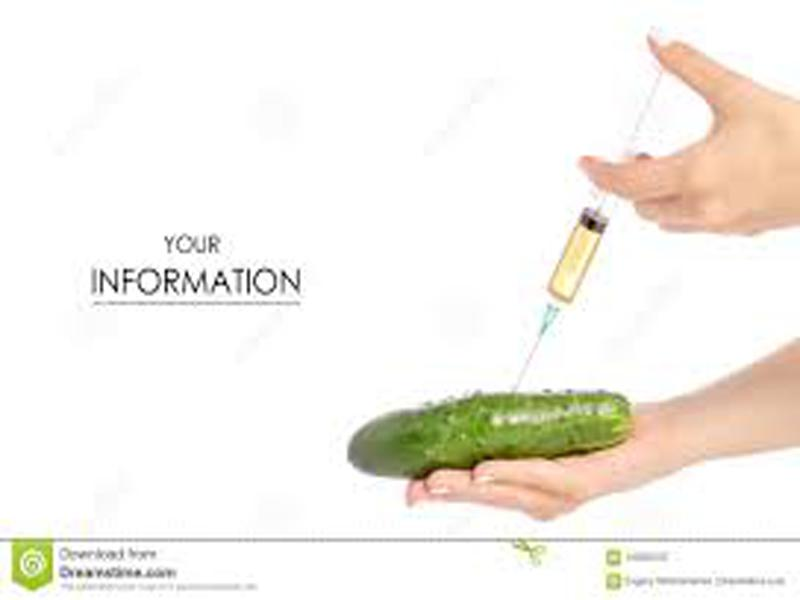Cucumber: (347, 392, 632, 477)
